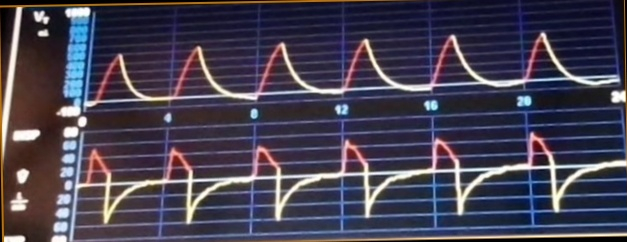Normal Flow: (81, 125, 626, 229)
Normal Volume: (90, 30, 616, 104)
